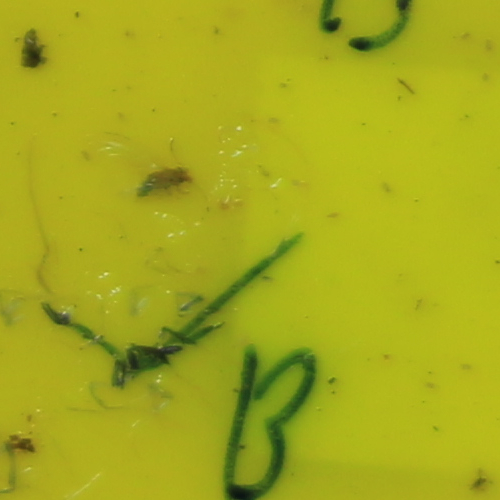Glycaspis: (137, 164, 197, 197)
